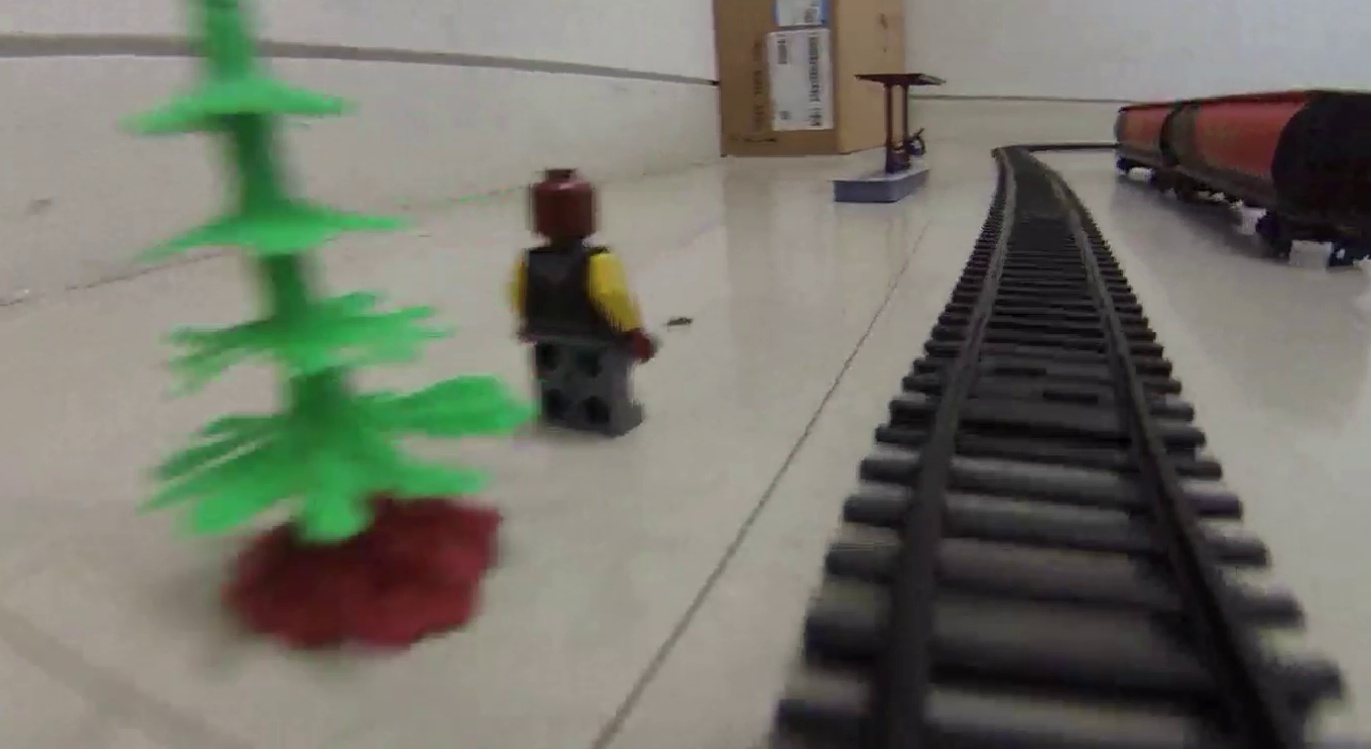people: (513, 167, 656, 438)
tree: (119, 1, 526, 661)
